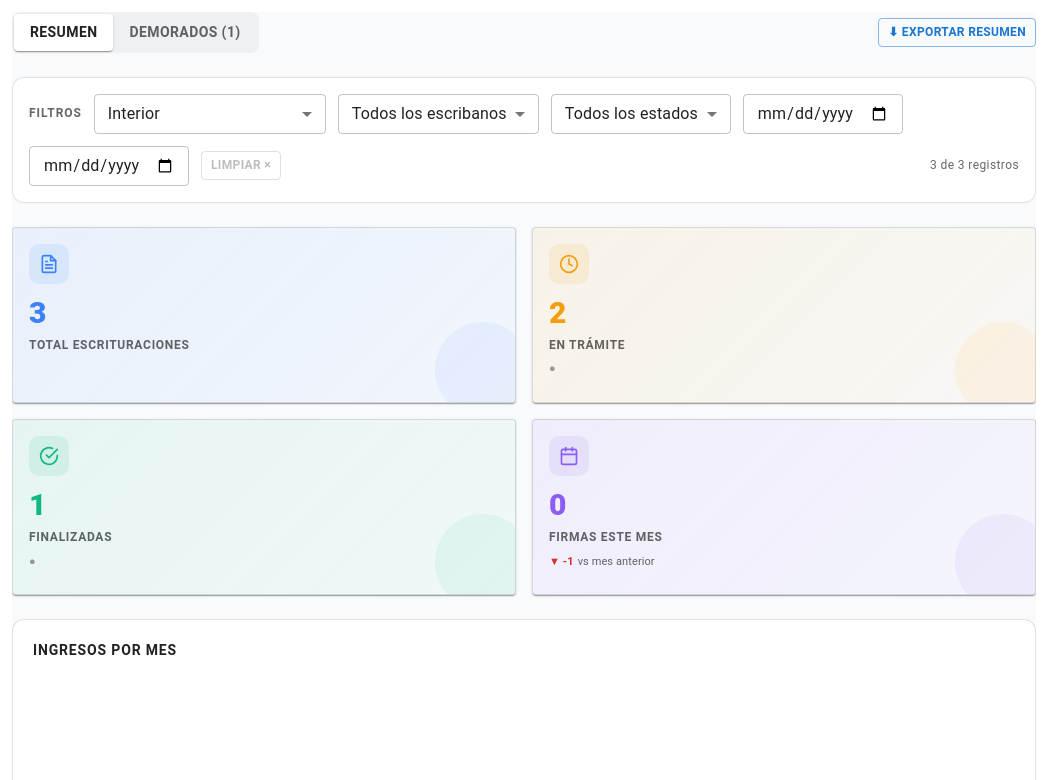
DashboardTab resumen (P5a) › disables Limpiar without filters and resets the URL state when clicked
Expected: the button "Limpiar ×" is disabled, [201, 151, 281, 180]
Select "Interior" in the dropdown named "Departamento": (210, 114) [94, 94, 326, 134]
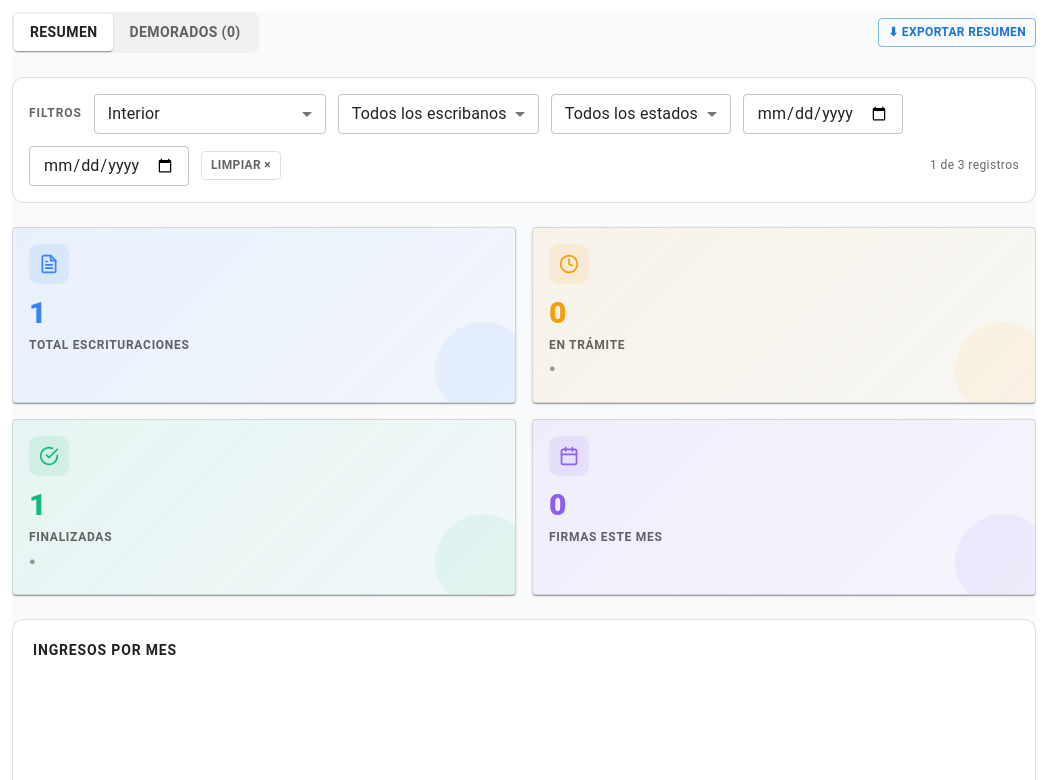
Expected: the button "Limpiar ×" is enabled
Click the button "Limpiar ×": (241, 166) [201, 151, 281, 180]
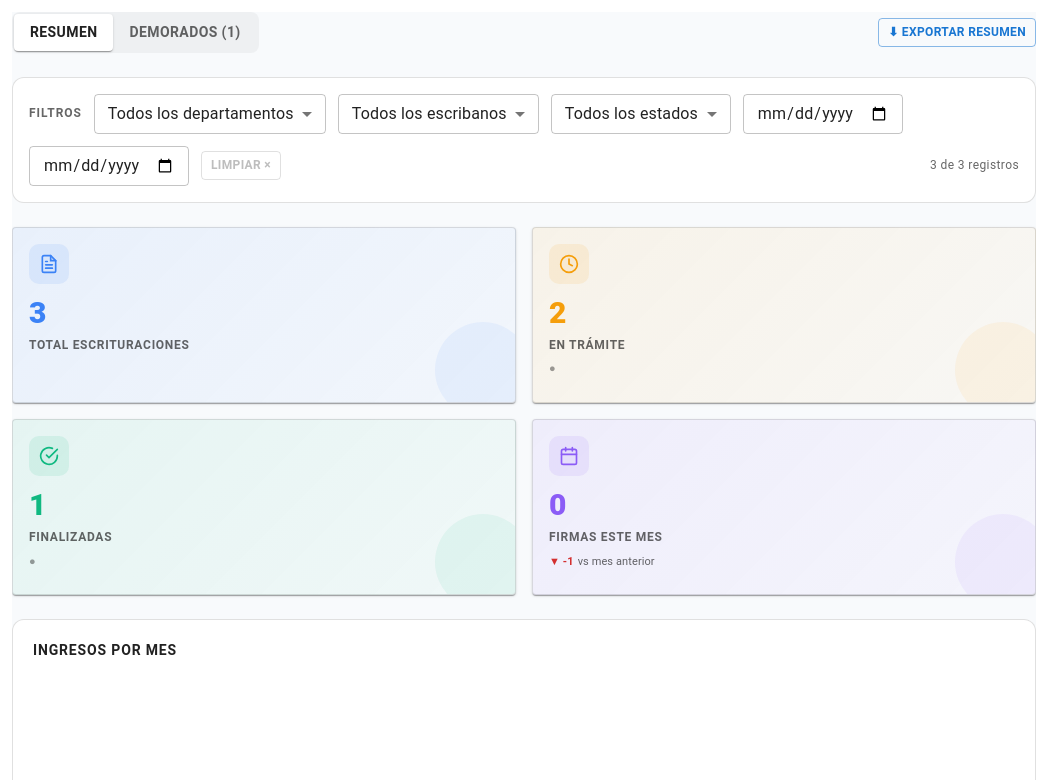
Expected: the text "3 de 3 registros" is shown, [930, 156, 1019, 175]
